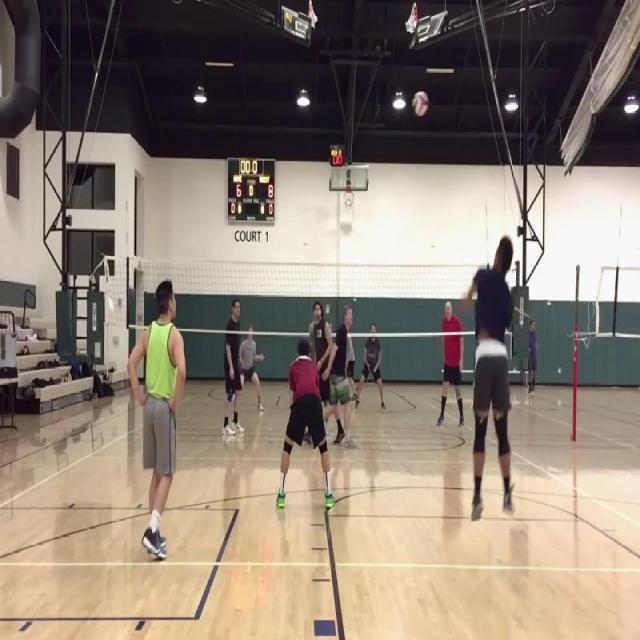volleyball: (414, 90, 428, 116)
